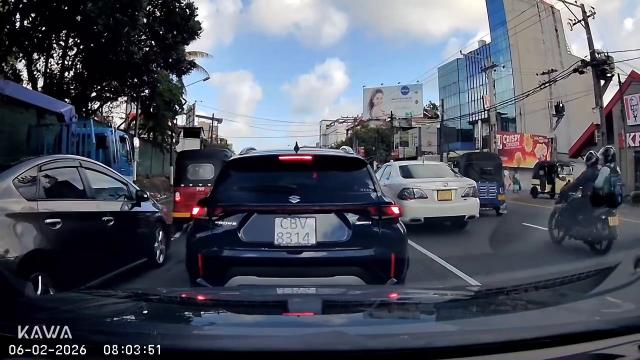illegal overtaking: (539, 141, 626, 260), (380, 156, 474, 231)
number plate: (267, 217, 318, 255), (603, 213, 621, 227), (436, 189, 455, 201)
